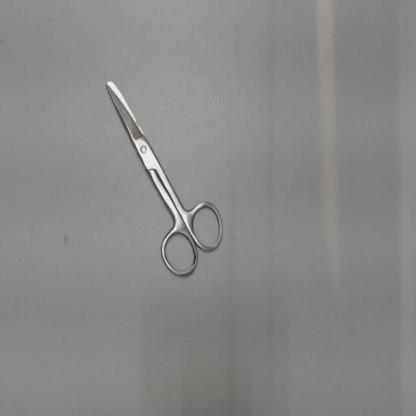Dressing Scissors: (100, 67, 230, 286)
